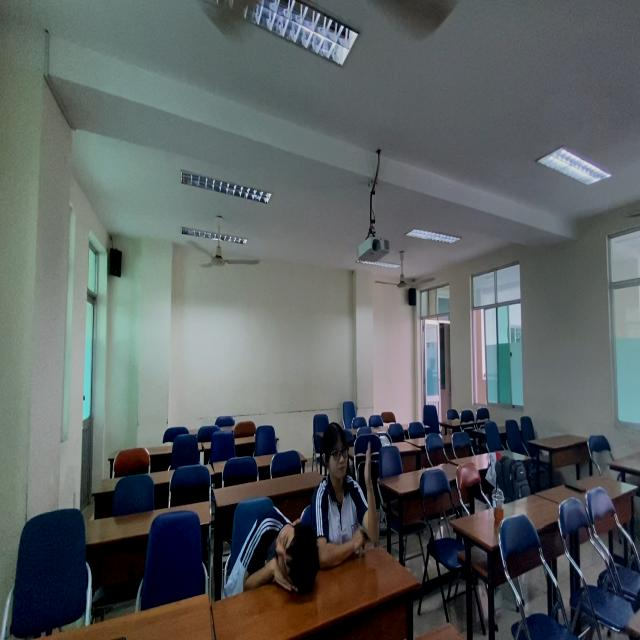raise_hand: (313, 415, 383, 571)
sleep: (222, 507, 322, 600)
